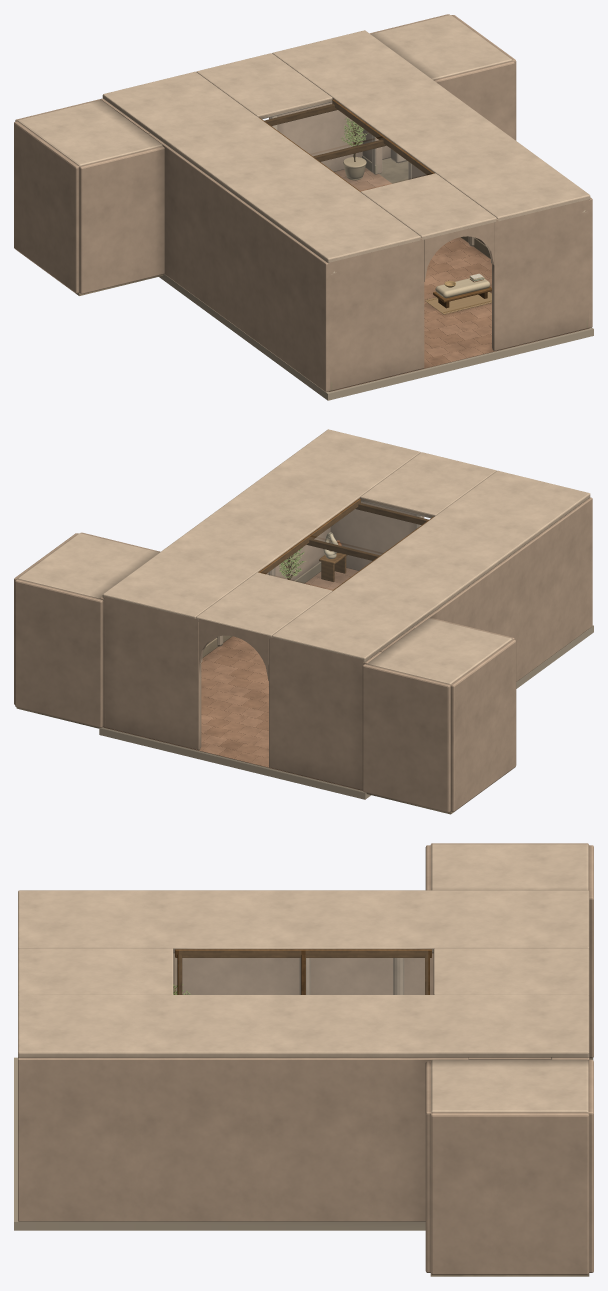
The model's file is extension.glb.
The picture shows the model from 3 angles, top to bottom: view 1: azimuth 30°, elevation 25°; view 2: azimuth 150°, elevation 25°; view 3: azimuth 270°, elevation 25°; orthographic projection. The views are drawn at different scales.
Parts seen in each view (by area): view 1: Architecture · Salon earth plaster, Architecture · Salon cove plaster, Architecture · Fine warm mortar, Architecture · Natural walnut grain, Architecture · Salon clay floor 3, Architecture · Salon clay floor 0, Architecture · Salon clay floor 2, Architecture · Salon clay floor 1, Architecture · Sand travertine 1, Architecture · Woven natural jute, Architecture · Natural linen; view 2: Architecture · Salon earth plaster, Architecture · Salon cove plaster, Architecture · Fine warm mortar, Architecture · Natural walnut grain, Architecture · Salon clay floor 2, Architecture · Salon clay floor 1, Architecture · Salon clay floor 0, Architecture · Salon clay floor 3; view 3: Architecture · Salon earth plaster, Architecture · Salon cove plaster, Architecture · Fine warm mortar, Architecture · Natural walnut grain.
Boxes of the visible parts, x1,y1,x2,y2 form: Architecture · Salon earth plaster: (14,14,592,392); Architecture · Salon cove plaster: (18,15,590,348); Architecture · Fine warm mortar: (159,274,593,400); Architecture · Natural walnut grain: (259,99,491,308); Architecture · Salon clay floor 3: (329,176,589,391); Architecture · Salon clay floor 0: (351,181,581,381); Architecture · Salon clay floor 2: (334,169,548,389); Architecture · Salon clay floor 1: (353,168,565,385); Architecture · Sand travertine 1: (76,158,408,295); Architecture · Woven natural jute: (425,292,491,314); Architecture · Natural linen: (435,278,490,298); Architecture · Salon earth plaster: (14,497,592,812); Architecture · Salon cove plaster: (17,429,590,747); Architecture · Fine warm mortar: (99,625,593,799); Architecture · Natural walnut grain: (258,498,433,590); Architecture · Salon clay floor 2: (120,578,334,783); Architecture · Salon clay floor 1: (103,569,358,778); Architecture · Salon clay floor 0: (152,568,362,790); Architecture · Salon clay floor 3: (136,571,347,786); Architecture · Salon earth plaster: (18,843,593,1274); Architecture · Salon cove plaster: (18,844,589,1112); Architecture · Fine warm mortar: (14,1057,593,1230); Architecture · Natural walnut grain: (175,949,431,994).
Bounding box in the file's own units: 20.3 × 6.17 × 18.27.
Materials: 28 (13 with a texture image).
